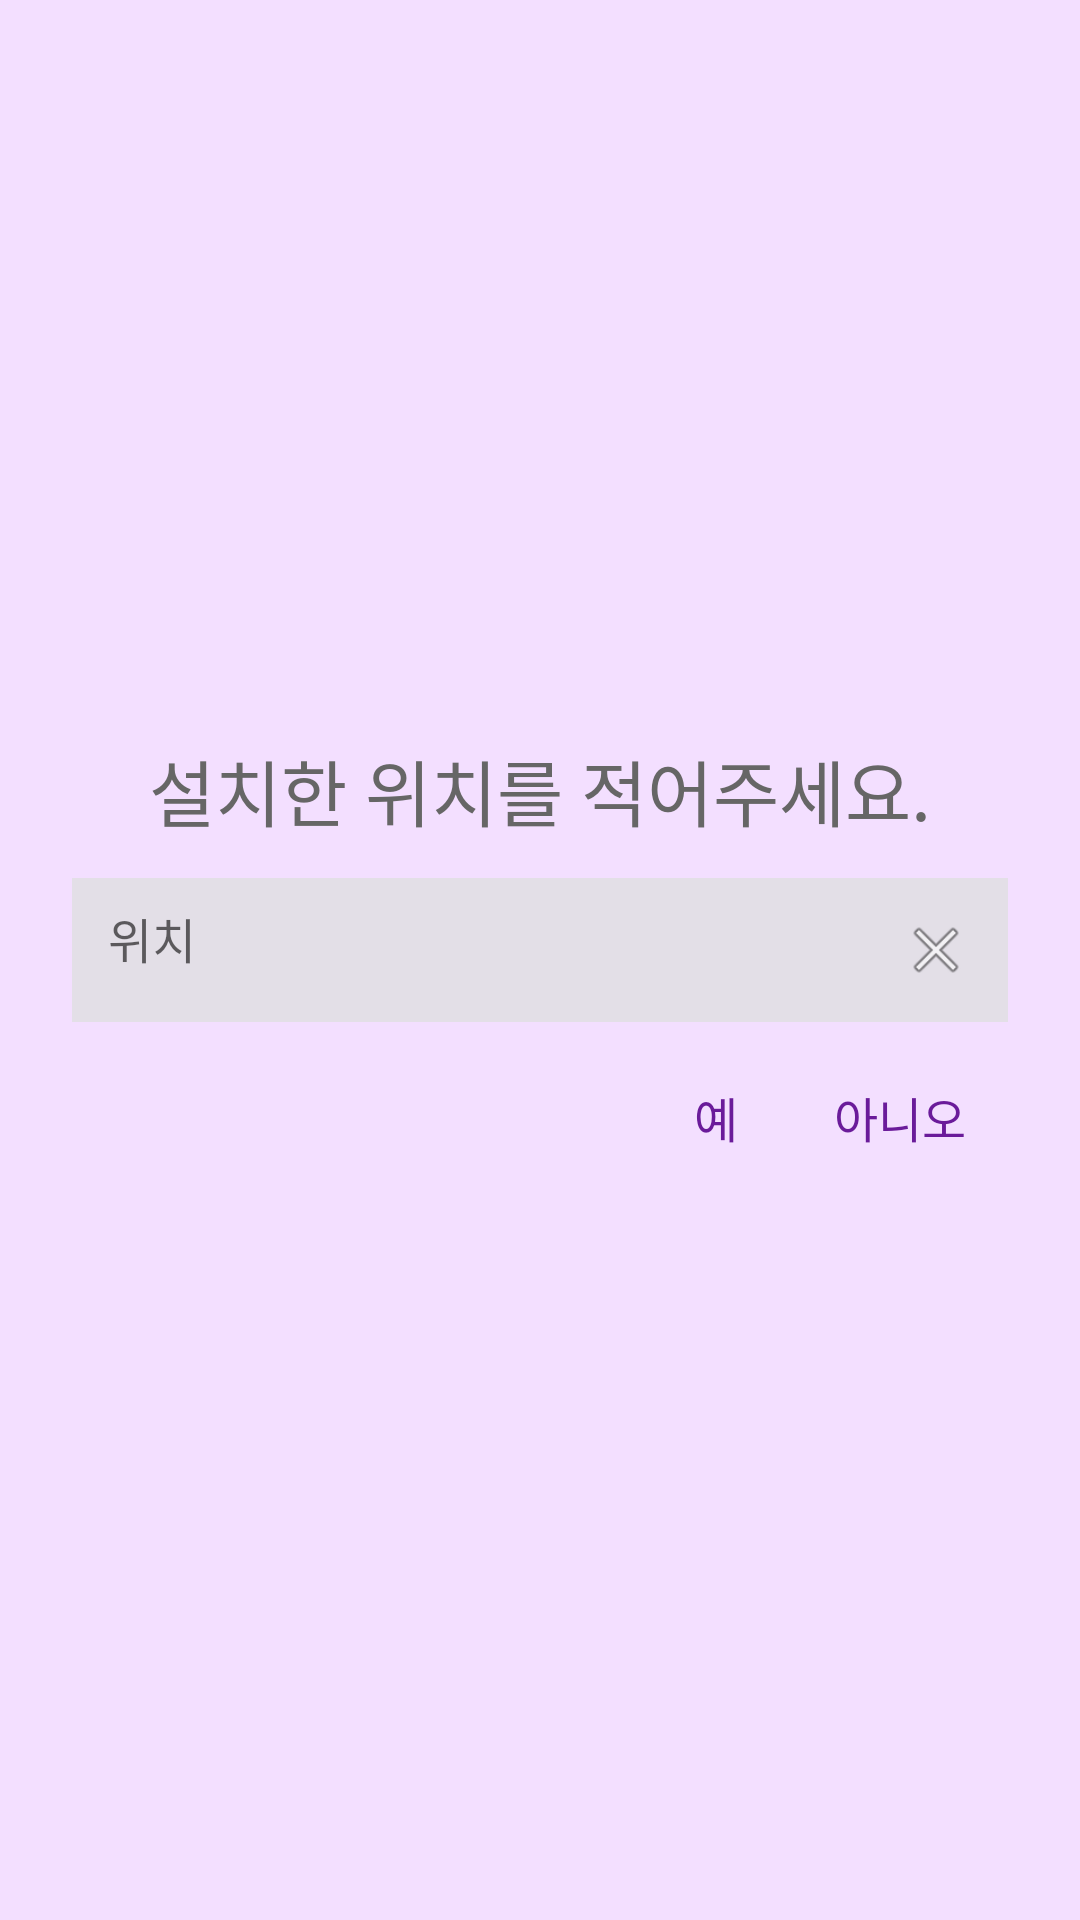

Where icons sit on this 1080w x 1920h app screen, as [left=x1, top=y1, right=x2, bottom=y2]:
지우기 버튼: [left=913, top=927, right=959, bottom=973]
